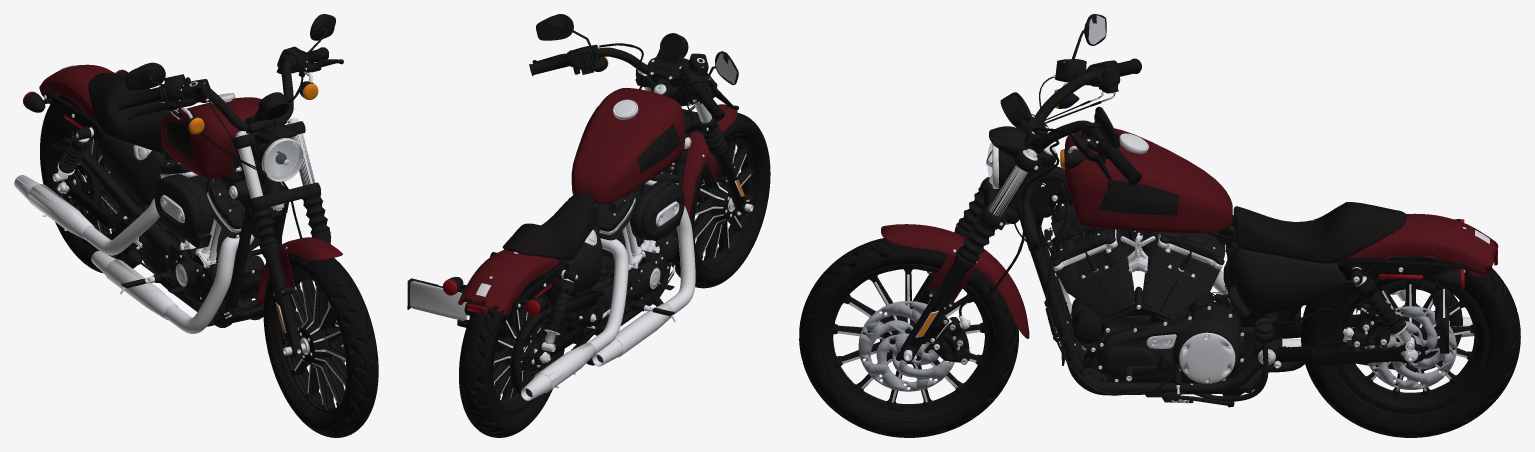
3 renders of one model, left to right at view 1: azimuth 30°, elevation 25°; view 2: azimuth 150°, elevation 25°; view 3: azimuth 270°, elevation 25°, orthographic. The views are drawn at different scales.
Visible parts, largest first — view 1: desirefx.me_102, desirefx.me_023, desirefx.me_104, desirefx.me_014, desirefx.me_098, desirefx.me_026, desirefx.me_108, desirefx.me_075, desirefx.me_097, desirefx.me_109, desirefx.me_048, desirefx.me_071 (+33 smaller); view 2: desirefx.me_014, desirefx.me_102, desirefx.me_024, desirefx.me_104, desirefx.me_026, desirefx.me_015, desirefx.me_108, desirefx.me_098, desirefx.me_023, desirefx.me_109, desirefx.me_005, desirefx.me_071 (+28 smaller); view 3: desirefx.me_106, desirefx.me_105, desirefx.me_098, desirefx.me_104, desirefx.me_014, desirefx.me_097, desirefx.me_026, desirefx.me_107, desirefx.me_048, desirefx.me_015, desirefx.me_066, desirefx.me_110 (+27 smaller).
Part boxes in pixels (x1,y1,x2,y2): desirefx.me_102: (14,175,254,333); desirefx.me_023: (263,252,369,437); desirefx.me_104: (154,161,260,256); desirefx.me_014: (161,97,261,179); desirefx.me_098: (139,155,253,311); desirefx.me_026: (88,72,167,151); desirefx.me_108: (269,269,346,420); desirefx.me_075: (232,121,330,358); desirefx.me_097: (98,137,288,327); desirefx.me_109: (281,276,346,411); desirefx.me_048: (97,134,165,206); desirefx.me_071: (43,91,171,229); desirefx.me_014: (571,87,685,204); desirefx.me_102: (521,206,695,400); desirefx.me_024: (468,274,566,437); desirefx.me_104: (597,171,684,257); desirefx.me_026: (502,192,597,260); desirefx.me_015: (458,249,559,315); desirefx.me_108: (693,133,764,272); desirefx.me_098: (566,165,678,344); desirefx.me_023: (674,113,770,288); desirefx.me_109: (694,139,754,263); desirefx.me_005: (674,104,737,235); desirefx.me_071: (461,252,596,365); desirefx.me_106: (1301,256,1520,437); desirefx.me_105: (799,239,1018,437); desirefx.me_098: (1048,233,1277,396); desirefx.me_104: (1051,229,1224,317); desirefx.me_014: (1065,128,1232,233); desirefx.me_097: (1007,165,1364,395); desirefx.me_026: (1233,202,1406,263); desirefx.me_107: (821,264,996,422); desirefx.me_048: (1231,246,1347,314); desirefx.me_015: (1337,213,1498,282); desirefx.me_066: (959,76,1345,401); desirefx.me_110: (1332,275,1489,413).
Bounding box in the file's own units: 2.19 × 3.14 × 5.48.
